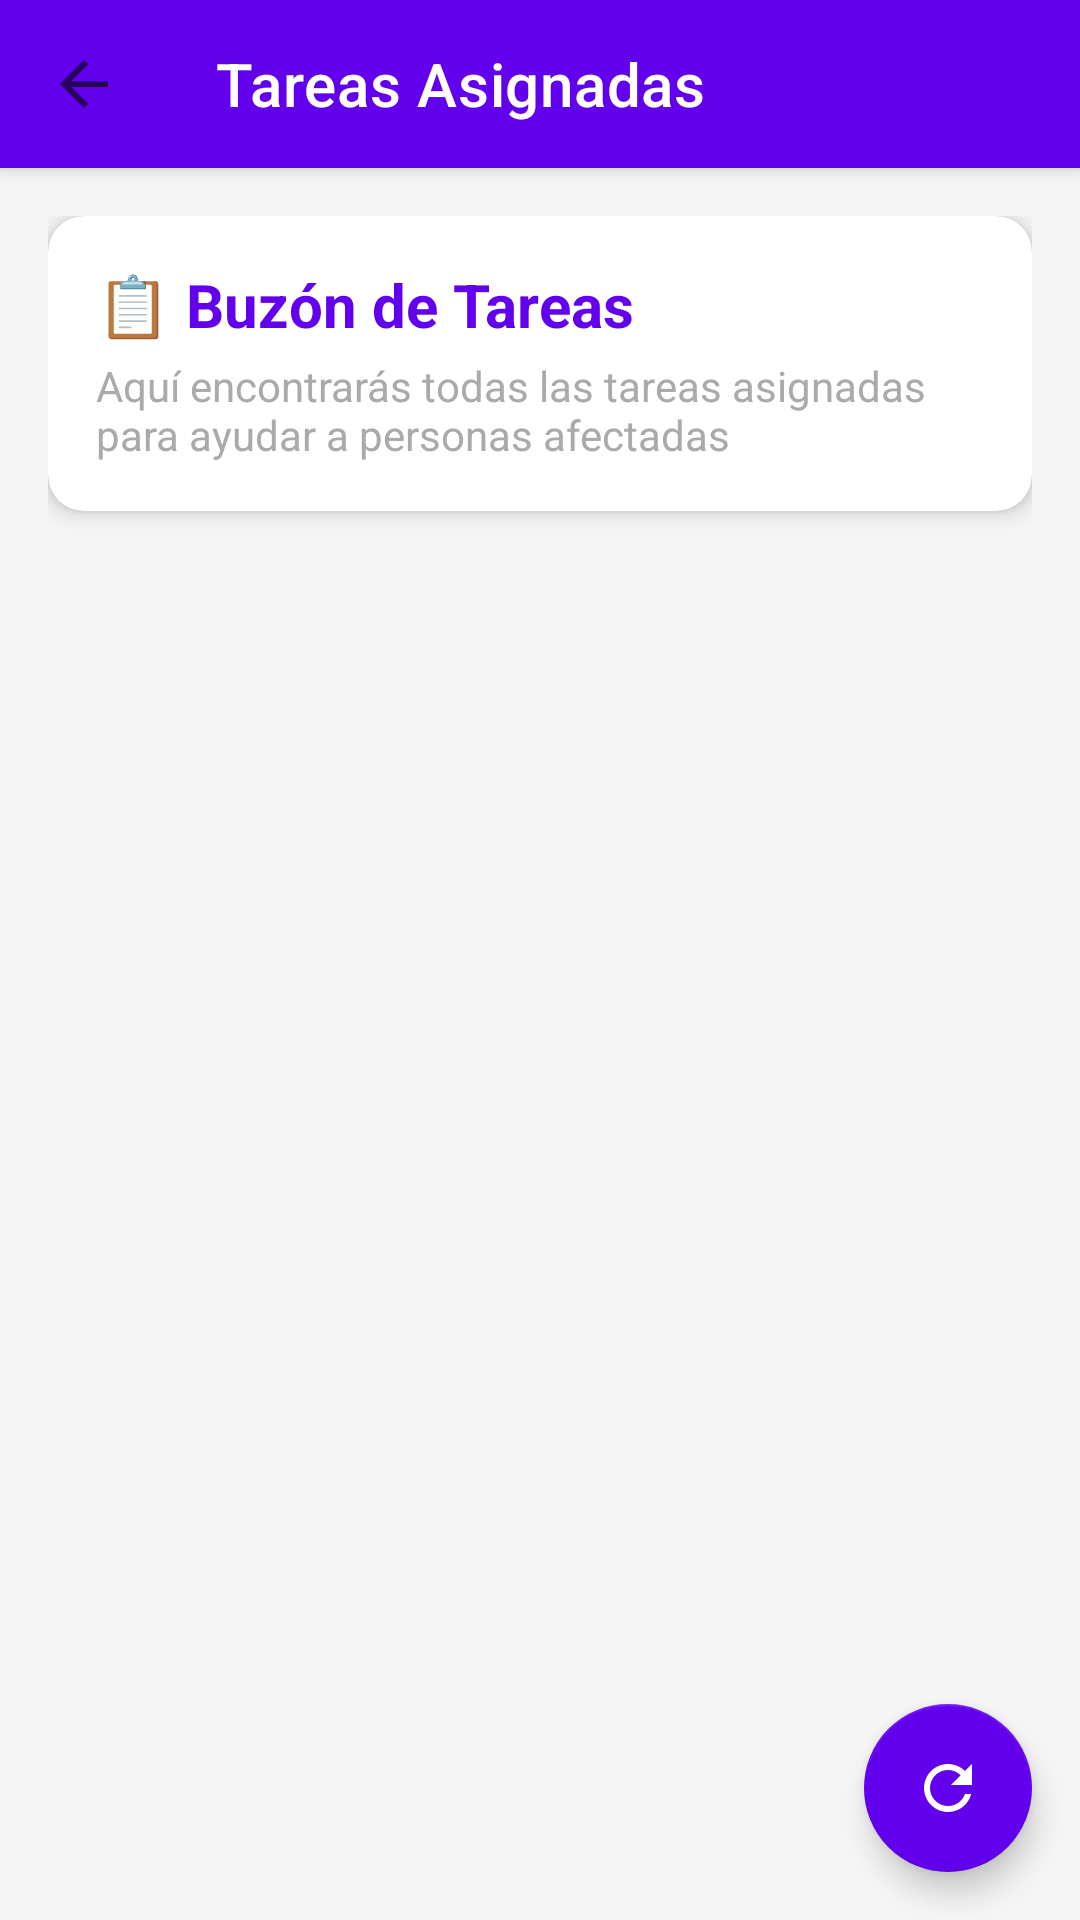

Screen size 1080w x 1920h. Icon name, then its center in pixels as (x=x, y=y):
Recargar tareas: (x=948, y=1788)
